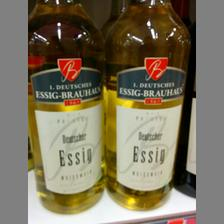Essig: (106, 0, 190, 216), (28, 0, 108, 212)
